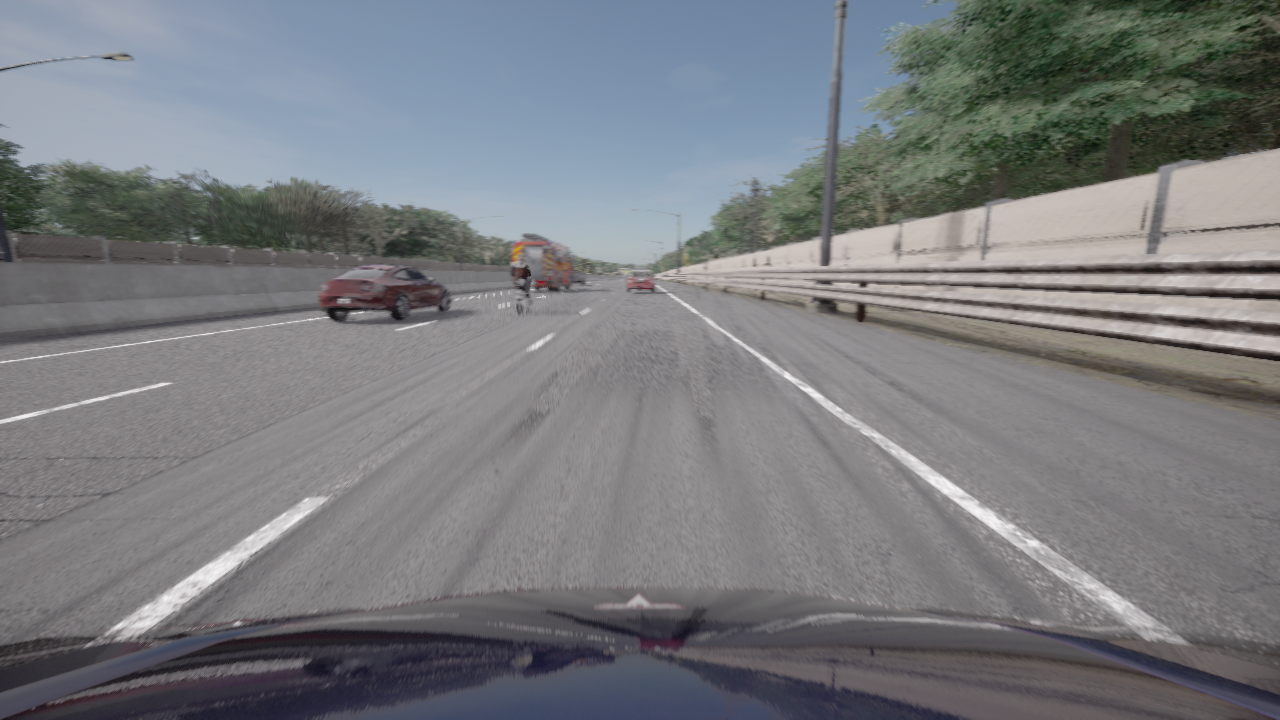cyclist: (0, 588, 1279, 719), (318, 264, 450, 320), (513, 234, 574, 291), (626, 270, 655, 293), (516, 289, 530, 314), (571, 271, 585, 284), (600, 279, 602, 286)
